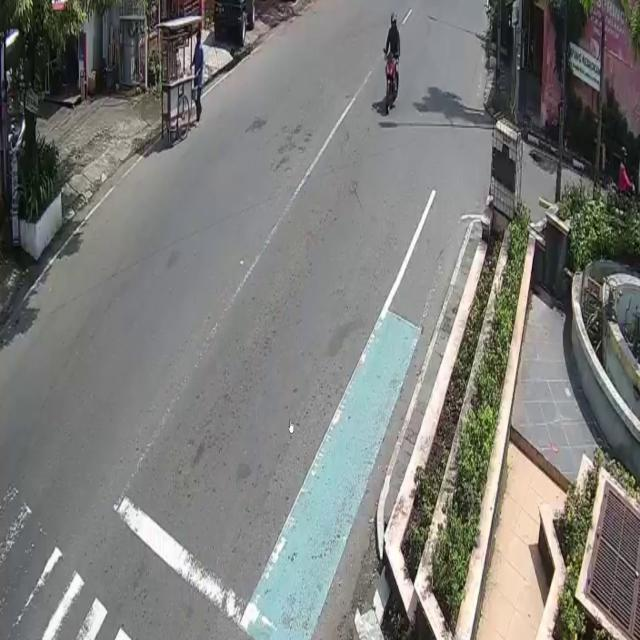bus: (384, 50, 400, 119)
